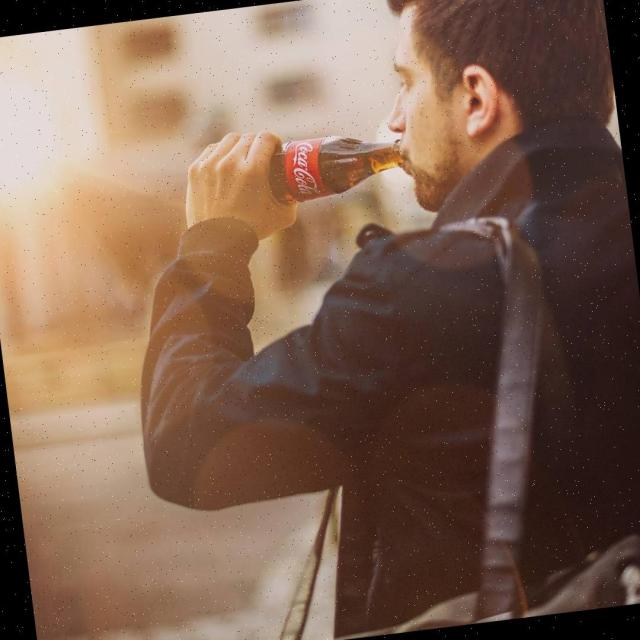coca-cola: (267, 125, 408, 208)
